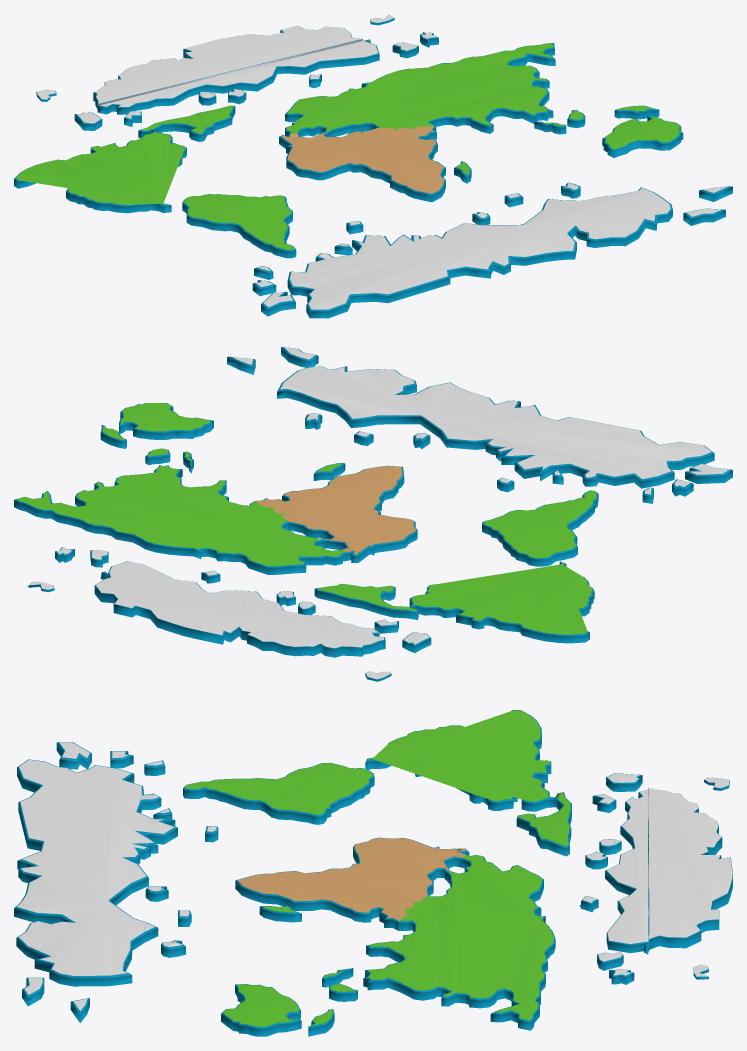
File: World.fbx
3 views of the same model, one above another, from view 1: azimuth 30°, elevation 25°; view 2: azimuth 150°, elevation 25°; view 3: azimuth 270°, elevation 25° (orthographic). The views are drawn at different scales.
Parts seen in each view (by area): view 1: Antartica.001, North Pole, Asia, North America, Africa, South America, Australia, Europe; view 2: Antartica.001, North Pole, Asia, North America, Africa, South America, Europe, Australia; view 3: Antartica.001, North Pole, Asia, North America, Africa, South America, Australia, Europe.
Boxes of the visible parts, x1,y1,x2,y2 form: Antartica.001: (252, 182, 732, 318); North Pole: (36, 14, 438, 130); Asia: (352, 43, 555, 133); North America: (14, 105, 235, 213); Africa: (279, 126, 471, 202); South America: (182, 194, 296, 258); Australia: (534, 105, 683, 157); Europe: (285, 85, 393, 136); Antartica.001: (227, 347, 732, 503); North Pole: (28, 547, 431, 681); Asia: (14, 465, 294, 558); North America: (314, 561, 594, 643); Africa: (256, 463, 417, 563); South America: (482, 490, 598, 566); Europe: (202, 526, 346, 574); Australia: (100, 403, 213, 473); Antartica.001: (14, 742, 218, 1022); North Pole: (579, 773, 732, 984); Asia: (363, 887, 555, 1030); North America: (365, 710, 571, 856); Africa: (235, 837, 469, 930); South America: (183, 762, 374, 824); Australia: (221, 968, 357, 1036); Europe: (447, 854, 543, 919).
Bounding box in the file's own units: 1762 × 27.29 × 1682.
